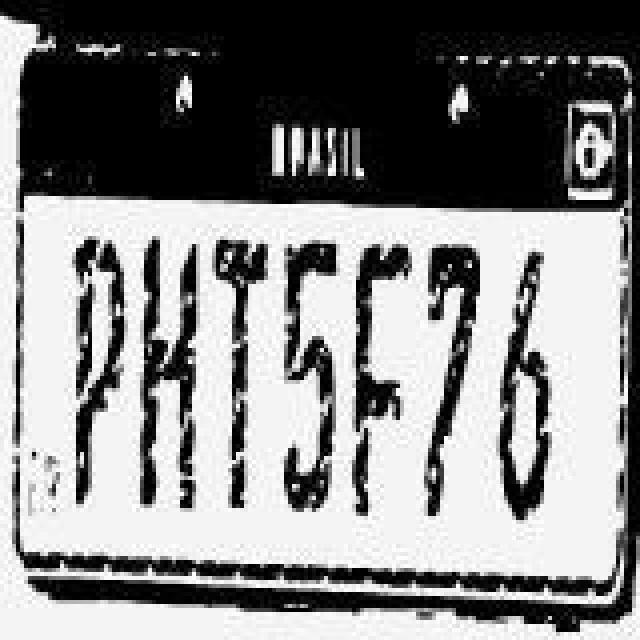5: (280, 210, 344, 510)
6: (490, 228, 558, 524)
7: (416, 230, 488, 522)
F: (352, 220, 416, 532)
H: (140, 218, 212, 534)
P: (72, 220, 136, 532)
T: (204, 224, 276, 520)
